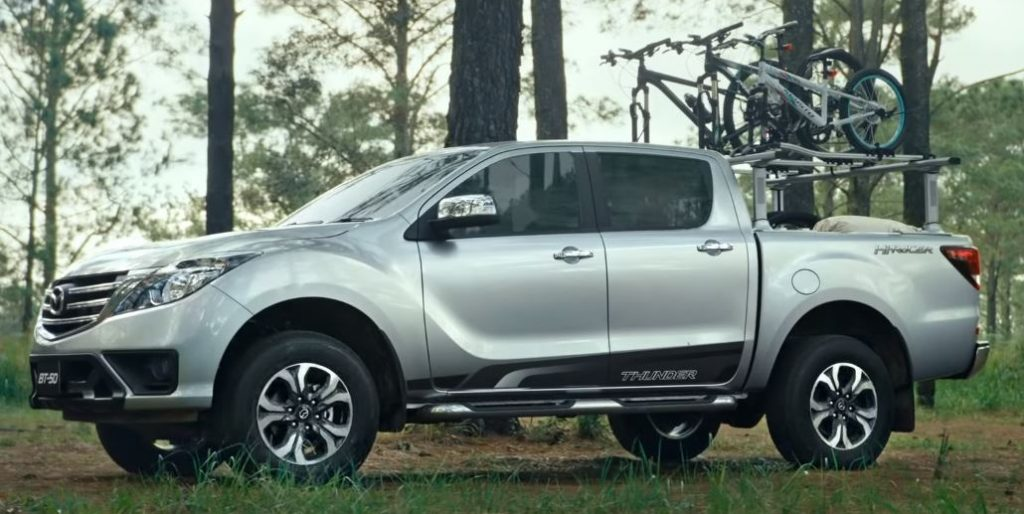pickup: (29, 134, 993, 476)
